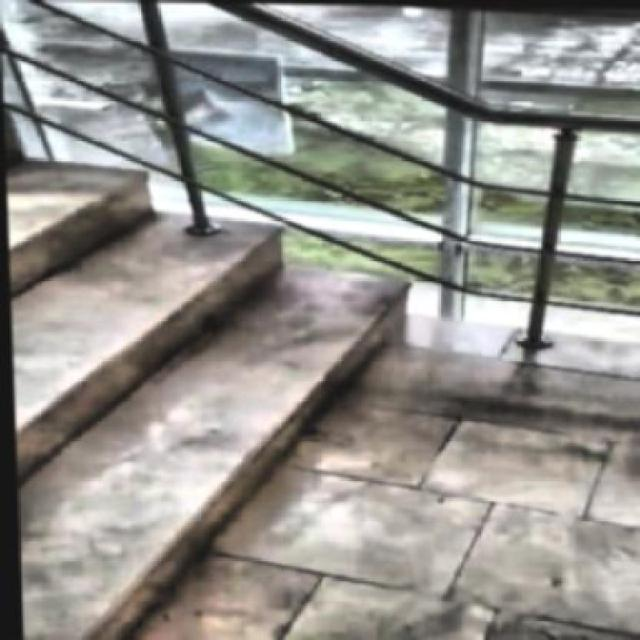stair: (1, 81, 468, 638)
